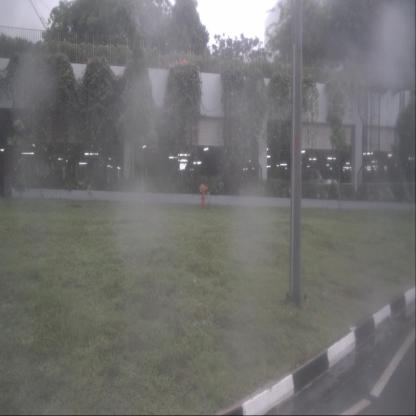vehicle-car: (298, 168, 338, 193)
